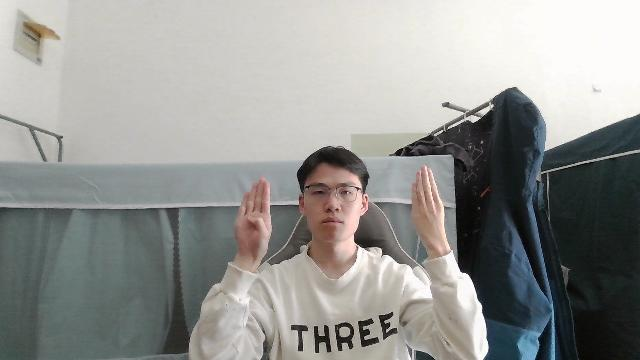four: (237, 177, 271, 259), (412, 166, 446, 243)
